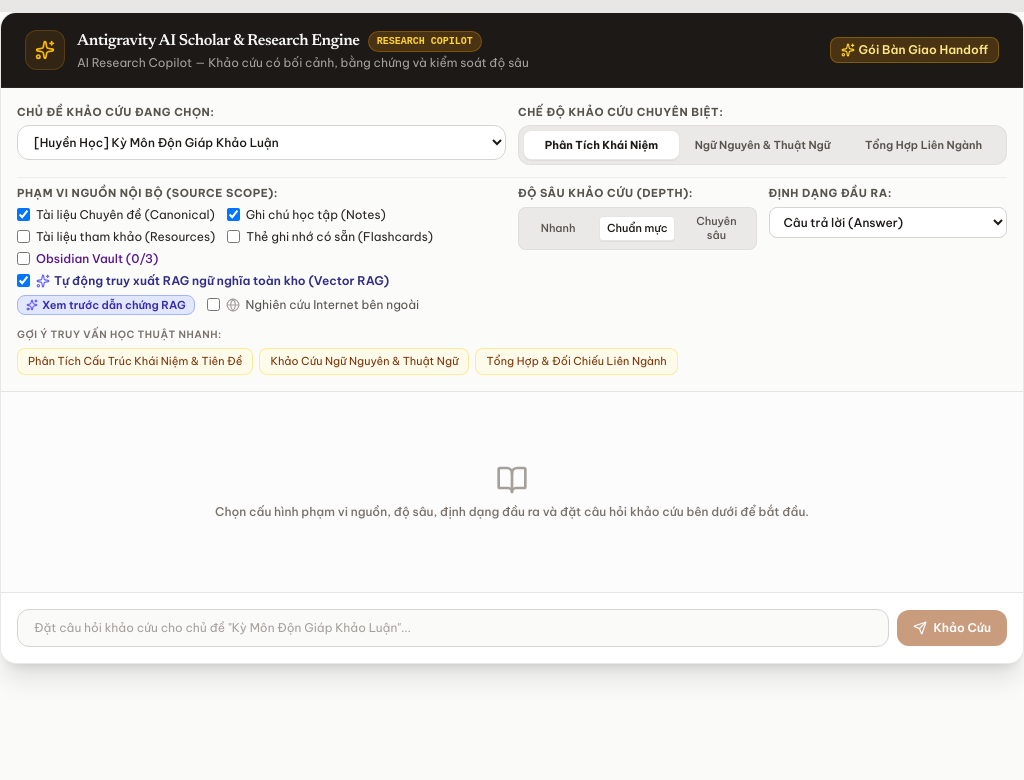
it: Phase P6.0: AI Research Studio UI Persistence & Export Integration › 5. Successful Query Auto-Persistence › 5.1. Khi query AI thành công, session mới được lưu tự động vào localStorage
Replace the text in the field with placeholder "Đặt câu hỏi khảo cứu cho chủ đề" with "Phân tích Cửu Cung Bát Quái" at (453,628), box 17,609 -> 889,647
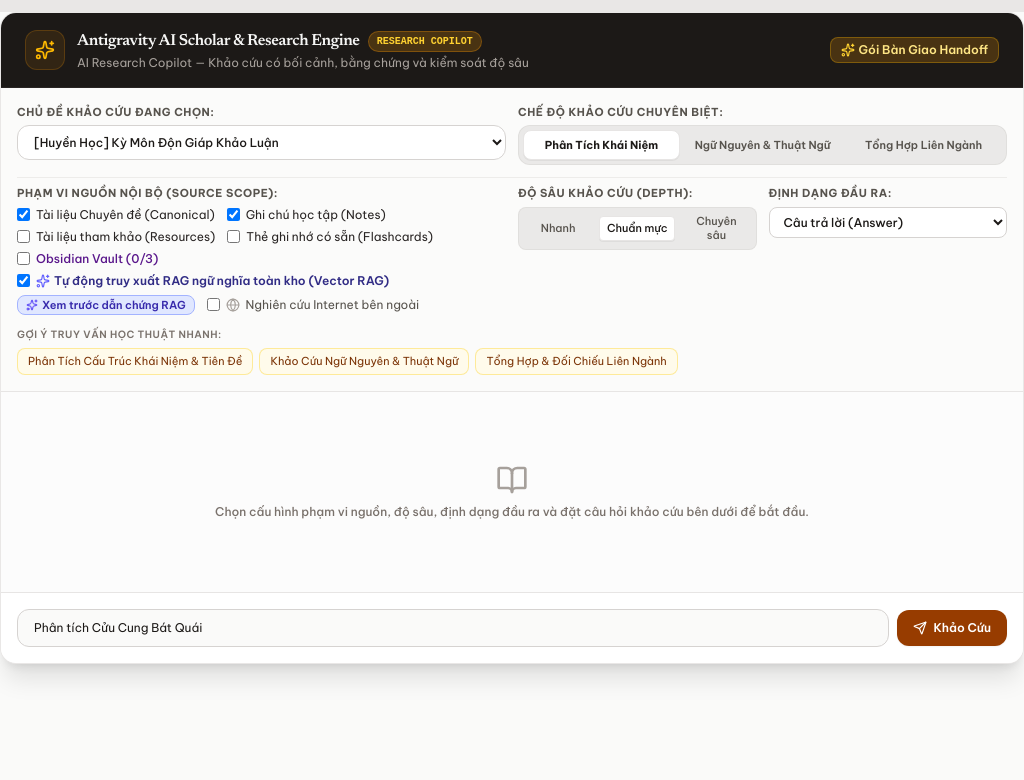
Click the button "Khảo Cứu" at (952,628), box 897,610 -> 1007,646
(page scrolled)
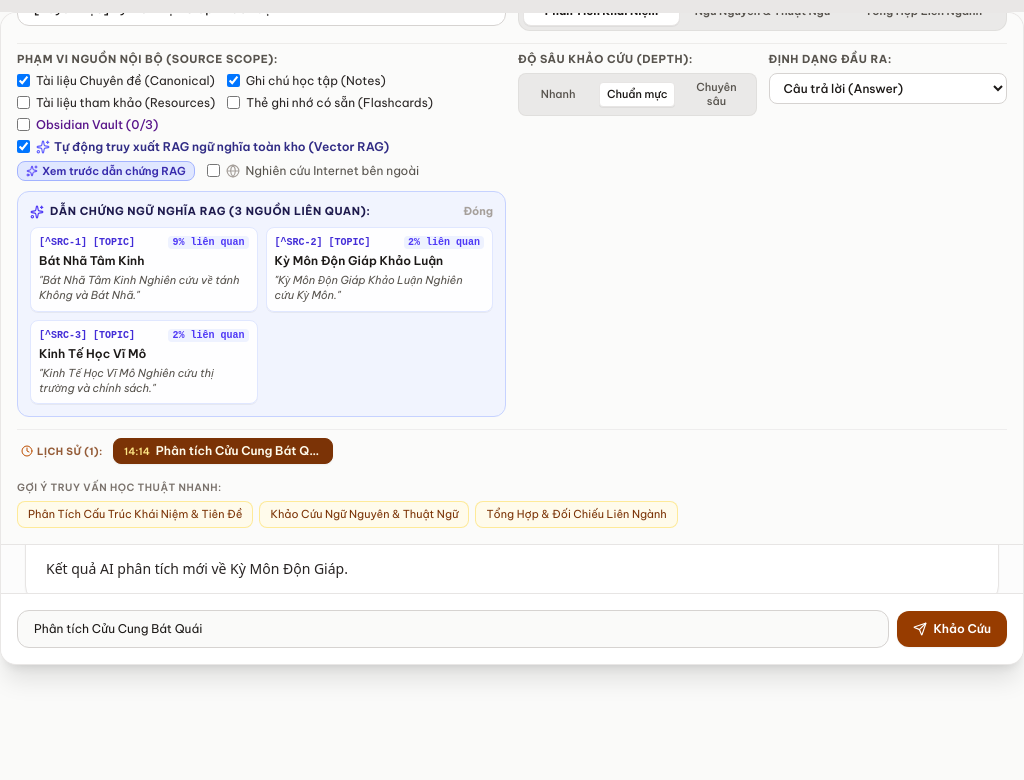
Expected: the text "Kết quả AI phân tích mới về Kỳ Môn Độn Giáp." is shown, 46,559 -> 348,578
Expected: the text "Phân tích Cửu Cung Bát Quái" is shown, 156,443 -> 322,459
